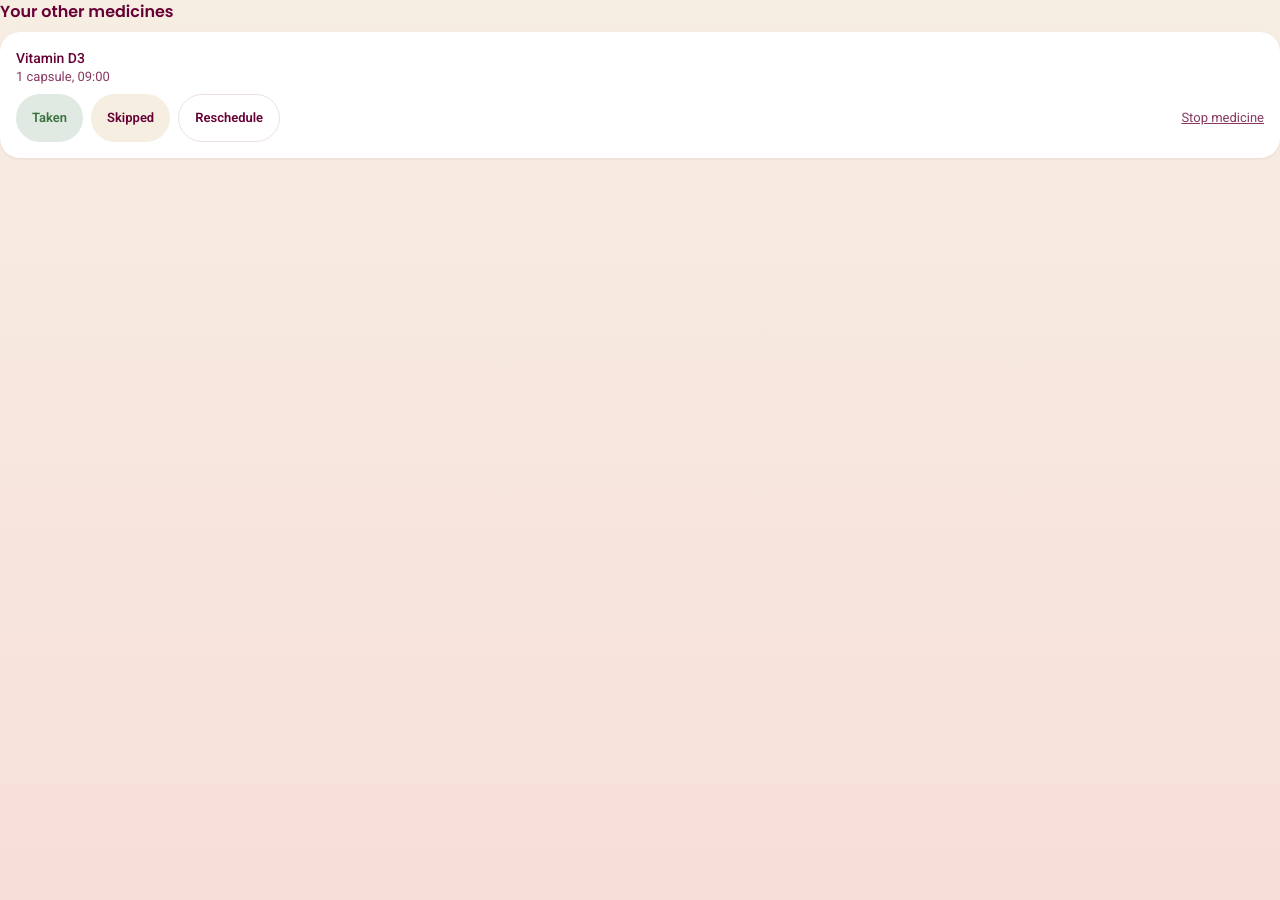
MedicineList › cancelling the deactivate sheet keeps the medicine
The width and height of the screenshot is (1280, 900).
Click the button "Stop medicine".
click(1223, 118)  # box [1181,94,1264,142]
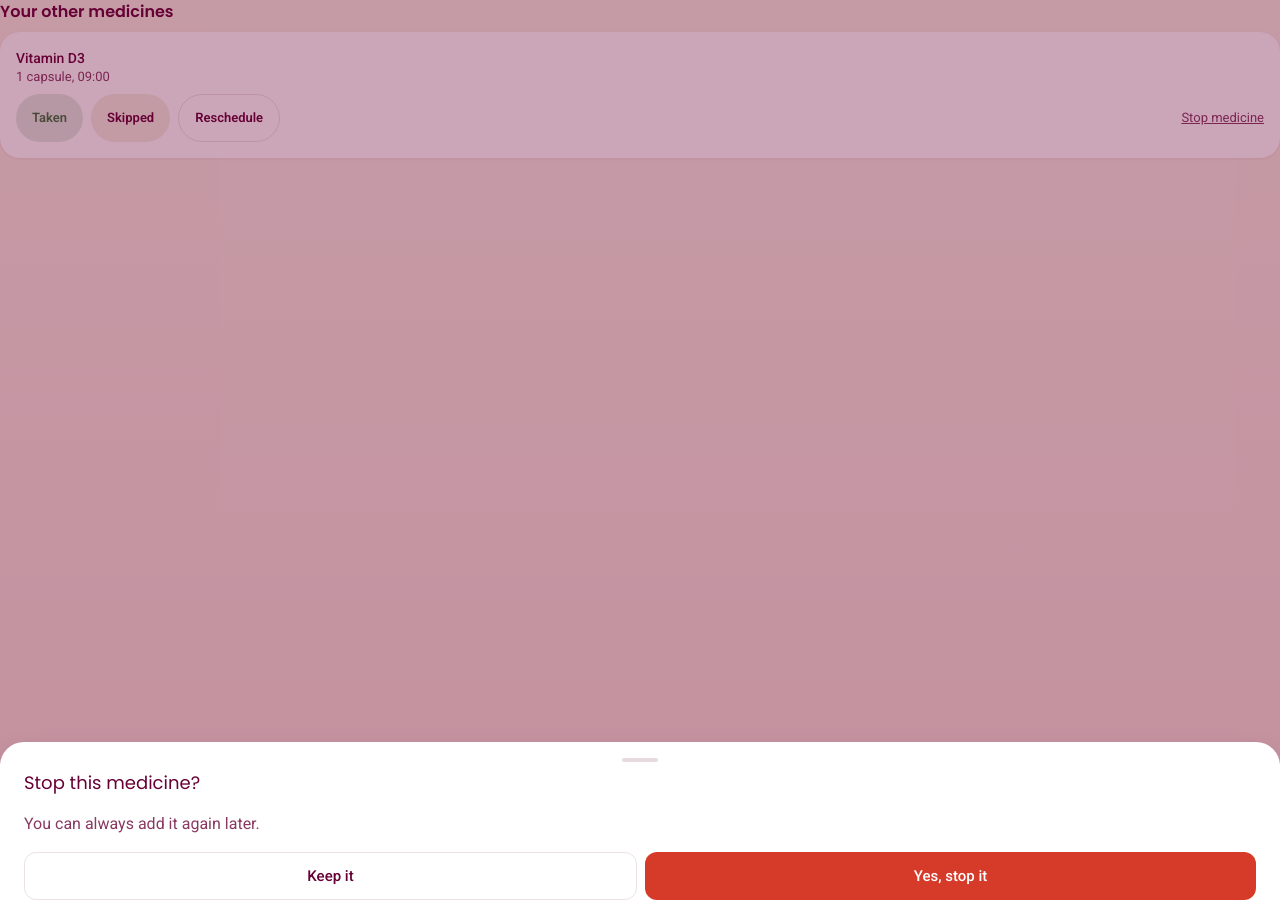
Click the button "Keep it".
click(330, 876)  # box [24,852,637,899]
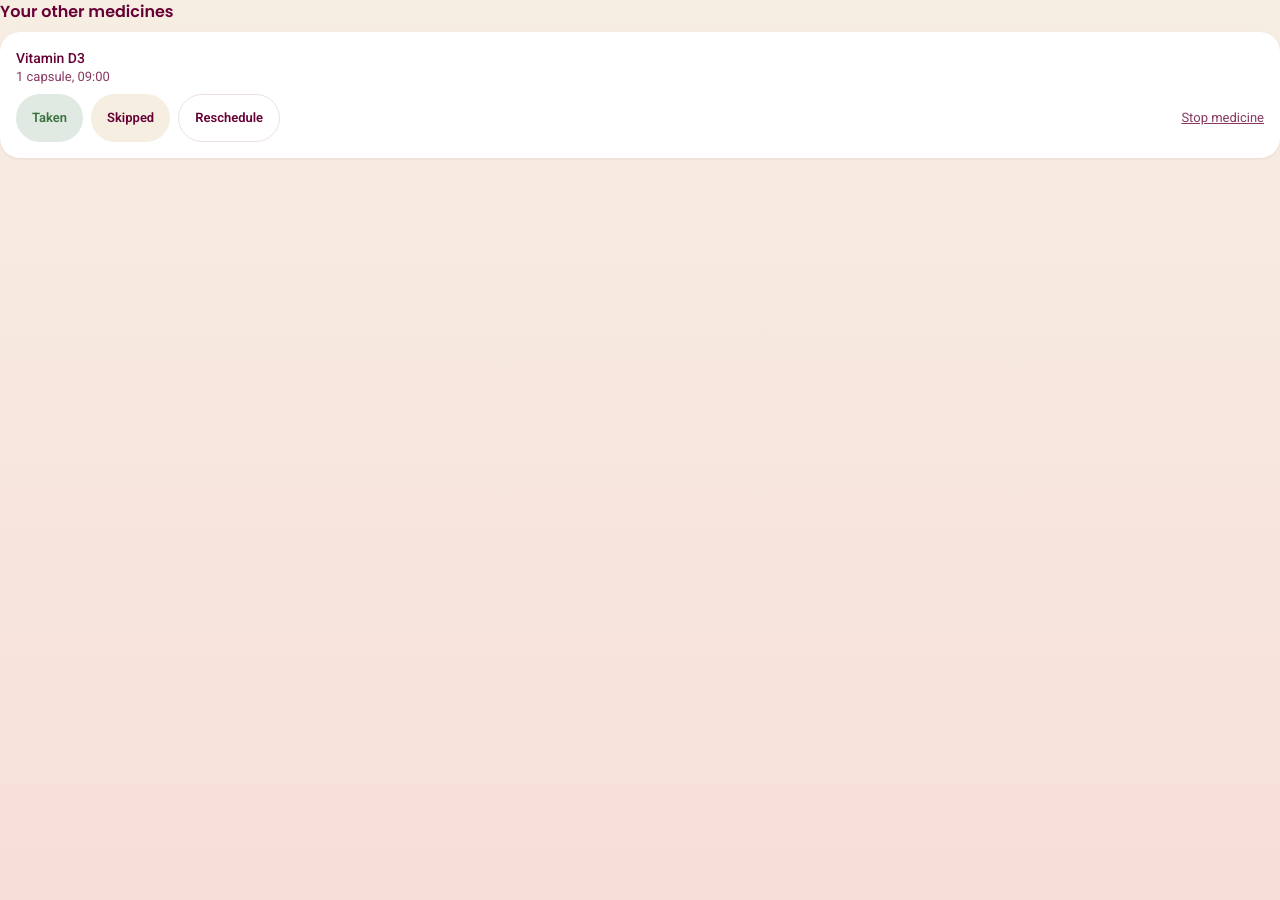
Check: the heading "Stop this medicine?" is gone
